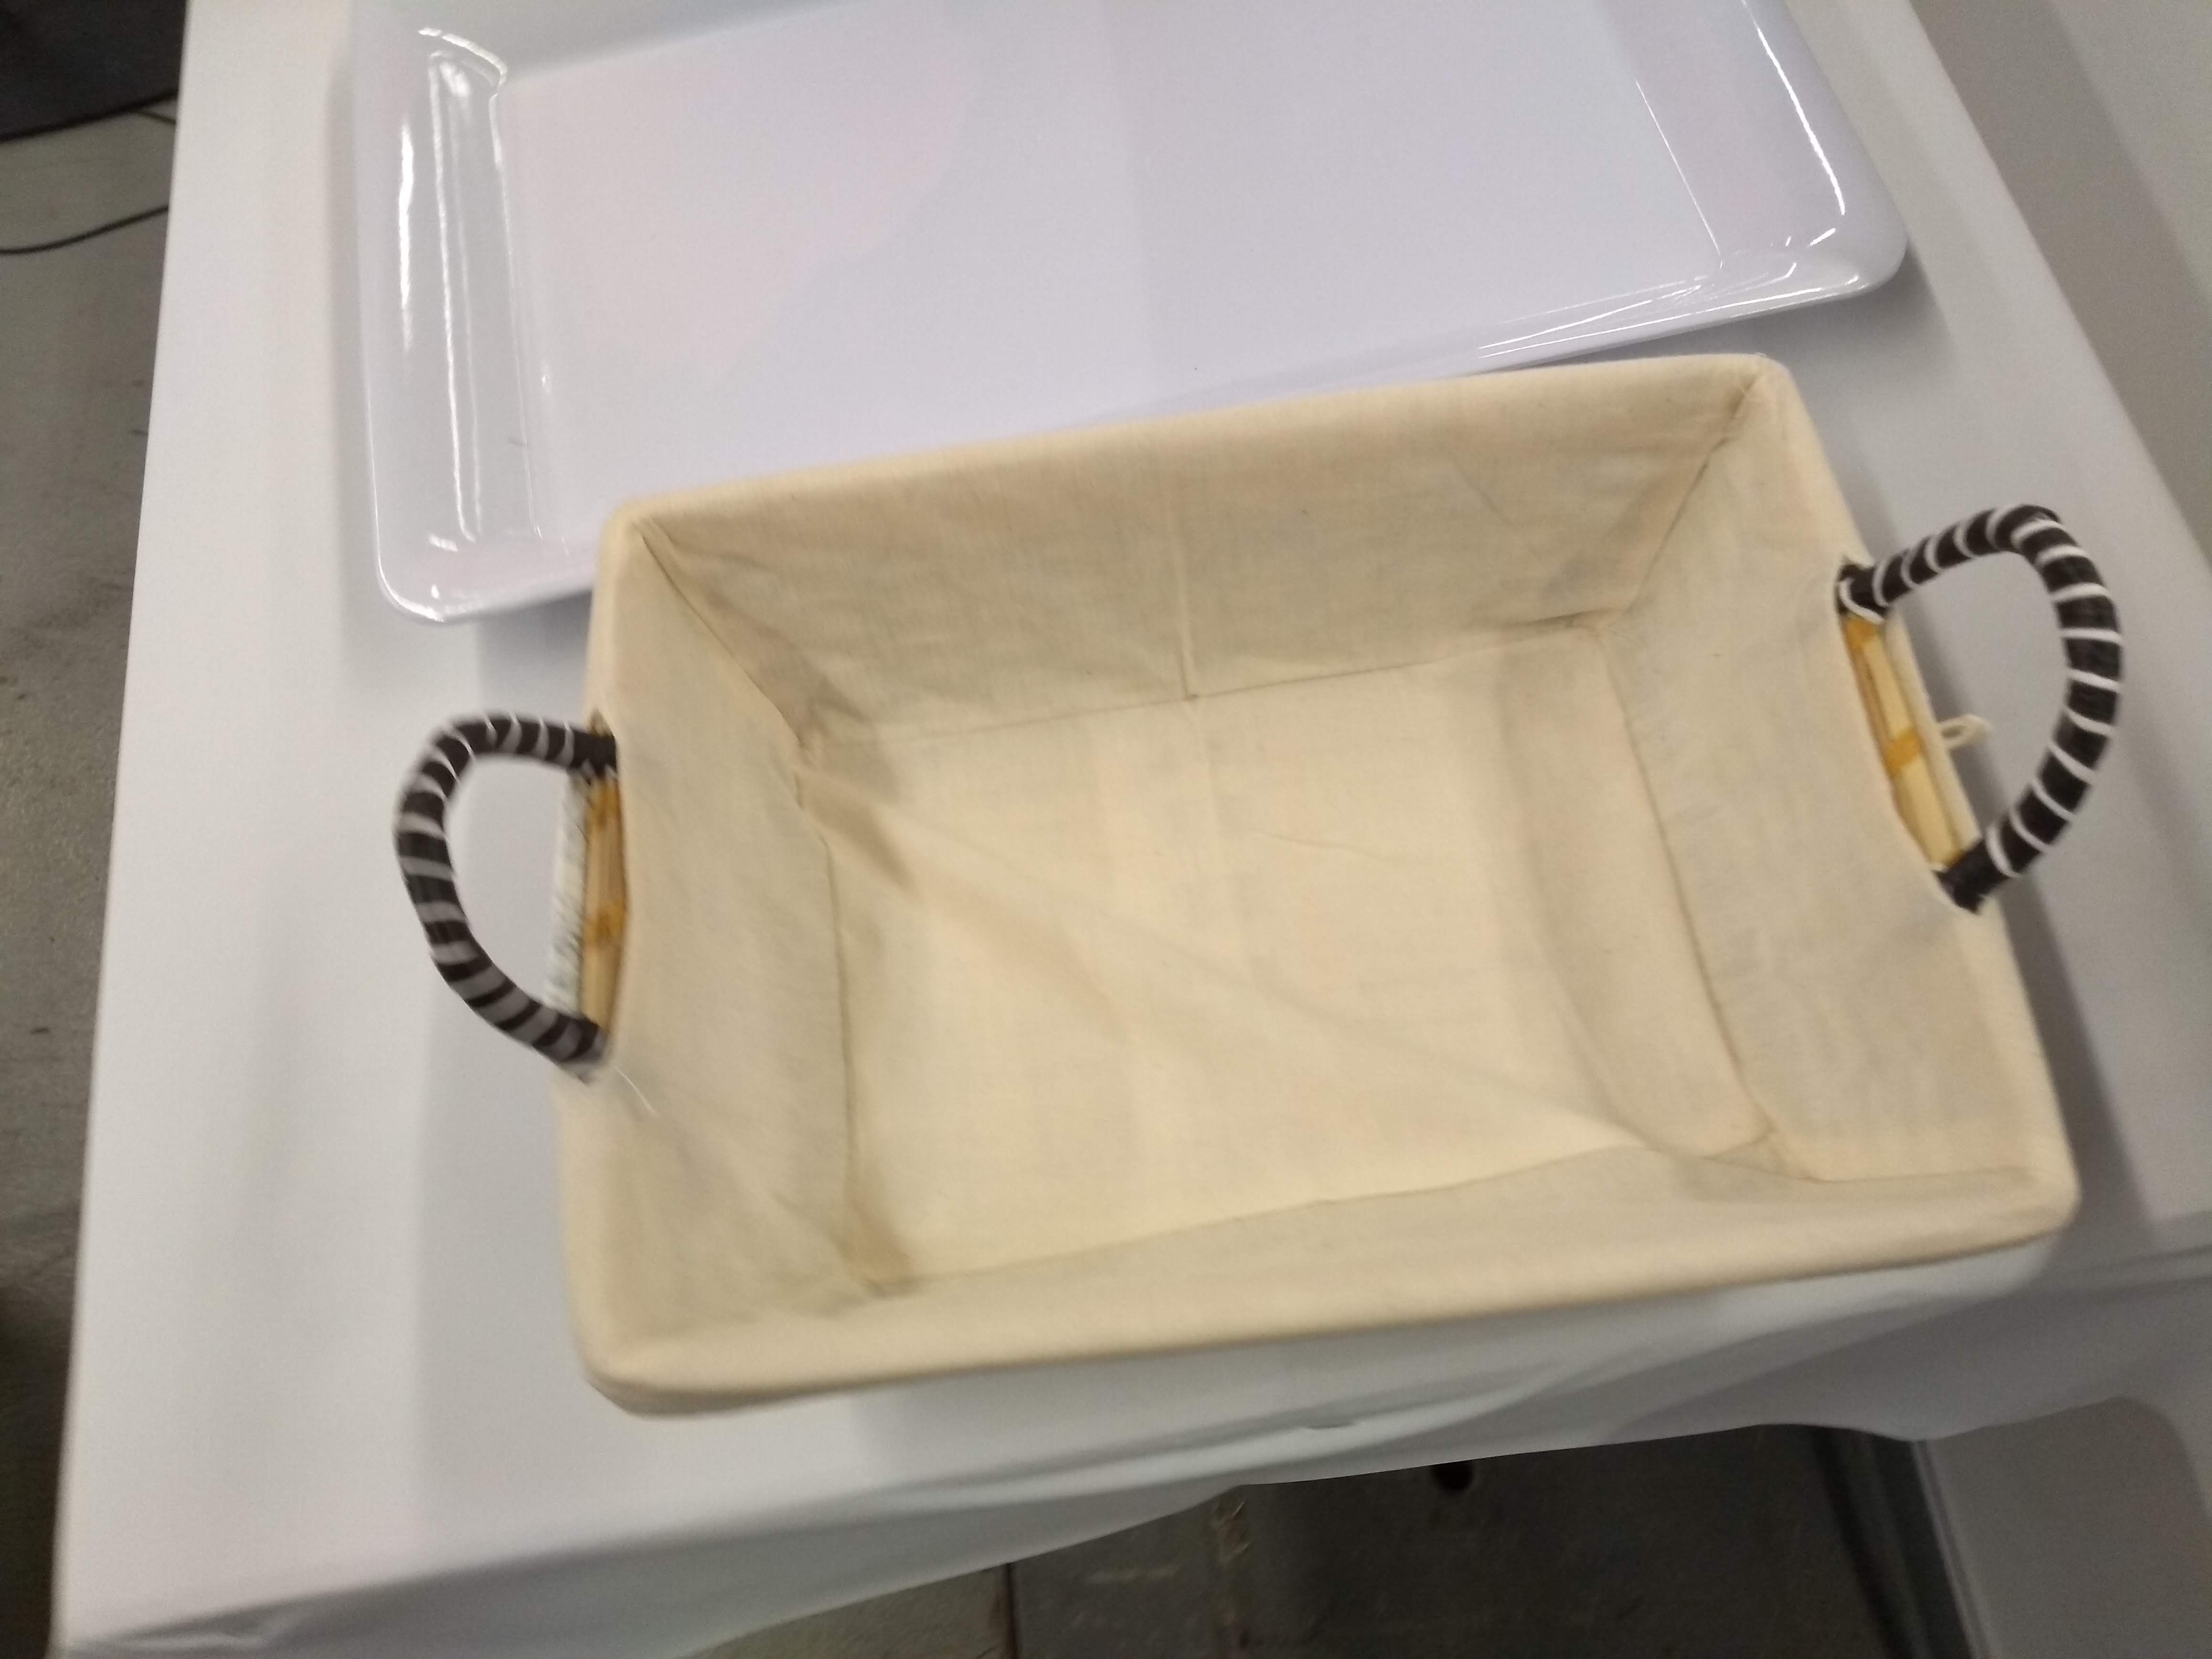basket: (402, 350, 2141, 1504)
tray: (324, 2, 1952, 615)
